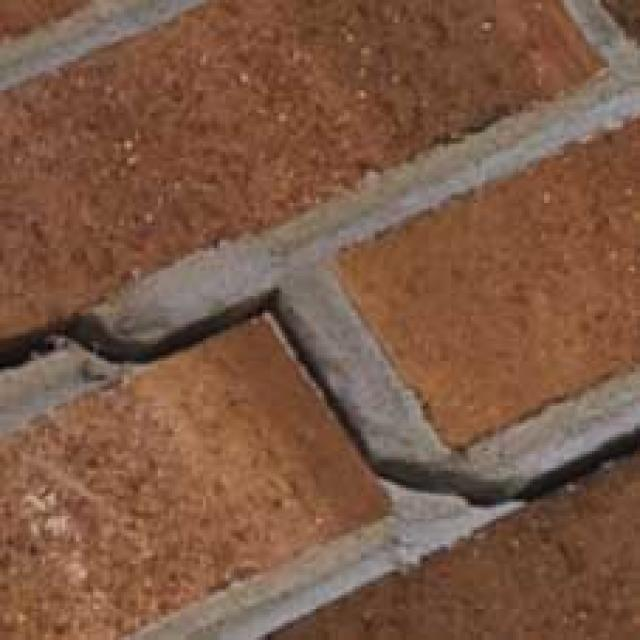Crack: (0, 276, 640, 541)
